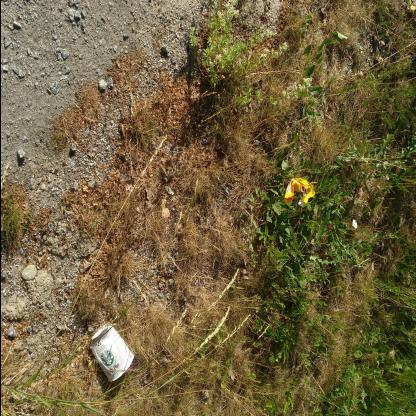karton: (88, 324, 134, 382)
plastik: (283, 178, 315, 208)
